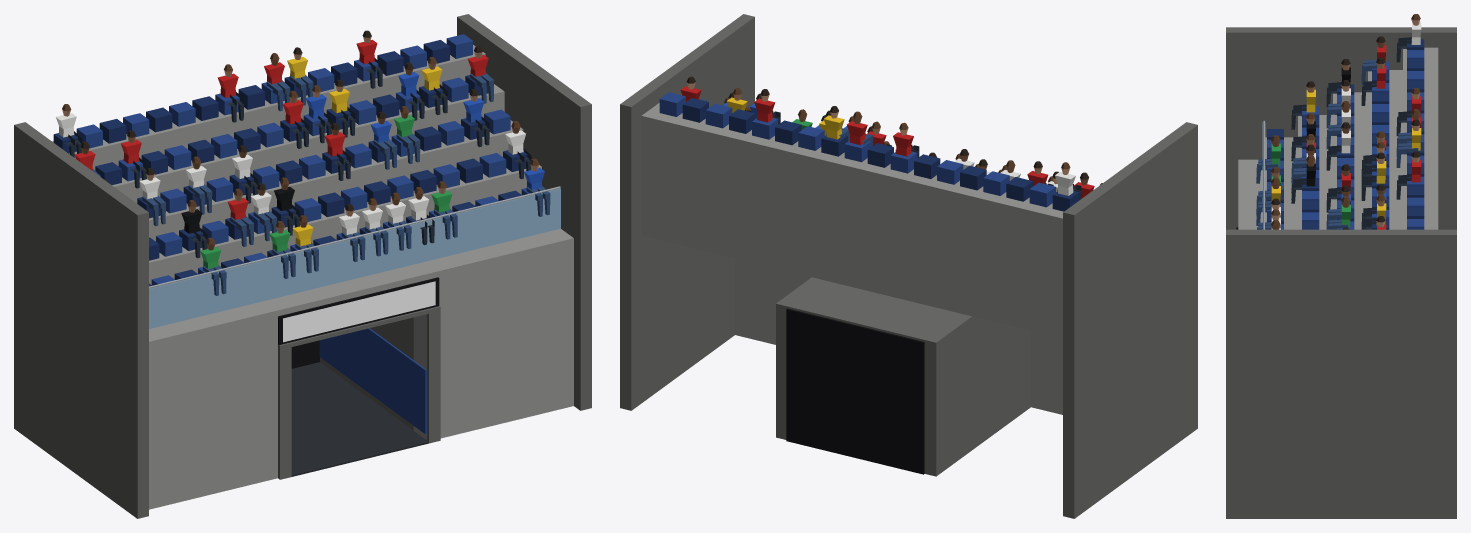
Rendered from stadium_tunnel.glb.
The picture shows the model from 3 angles, left to right: view 1: azimuth 30°, elevation 25°; view 2: azimuth 150°, elevation 25°; view 3: azimuth 270°, elevation 25°; orthographic projection. The views are drawn at different scales.
Parts seen in each view (by area): view 1: Tunnel, Fans, Words; view 2: Tunnel, Fans; view 3: Tunnel, Fans.
Boxes of the visible parts, x1,y1,x2,y2 form: Tunnel: [14, 14, 591, 518]; Fans: [56, 30, 550, 295]; Words: [283, 281, 435, 342]; Tunnel: [620, 14, 1197, 518]; Fans: [680, 76, 1102, 200]; Tunnel: [1226, 27, 1456, 518]; Fans: [1256, 14, 1421, 229].
Size of the model in its own units: 11.9 by 8.31 by 5.6.
